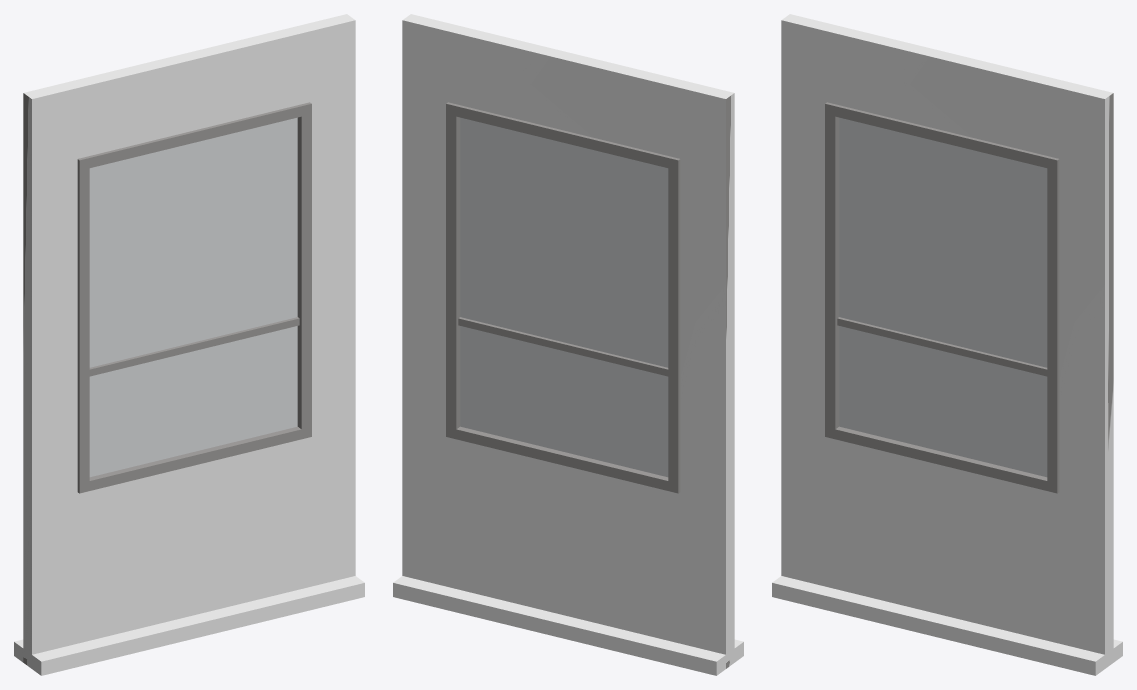
The model's file is 30_wall(window).FBX.
3 views of the same model, side by side, from view 1: azimuth 30°, elevation 25°; view 2: azimuth 150°, elevation 25°; view 3: azimuth 330°, elevation 25° (orthographic).
Parts seen in each view (by area): view 1: 30_wall(window), 30_wall(Alpha); view 2: 30_wall(window), 30_wall(Alpha); view 3: 30_wall(window), 30_wall(Alpha).
Part boxes in pixels (bbox=[...]): 30_wall(window): bbox=[14, 14, 364, 675]; 30_wall(Alpha): bbox=[89, 117, 297, 477]; 30_wall(window): bbox=[393, 14, 743, 675]; 30_wall(Alpha): bbox=[460, 117, 668, 477]; 30_wall(window): bbox=[772, 14, 1122, 675]; 30_wall(Alpha): bbox=[839, 117, 1047, 477].
Bounding box in the file's own units: 256 × 432 × 37.56.
